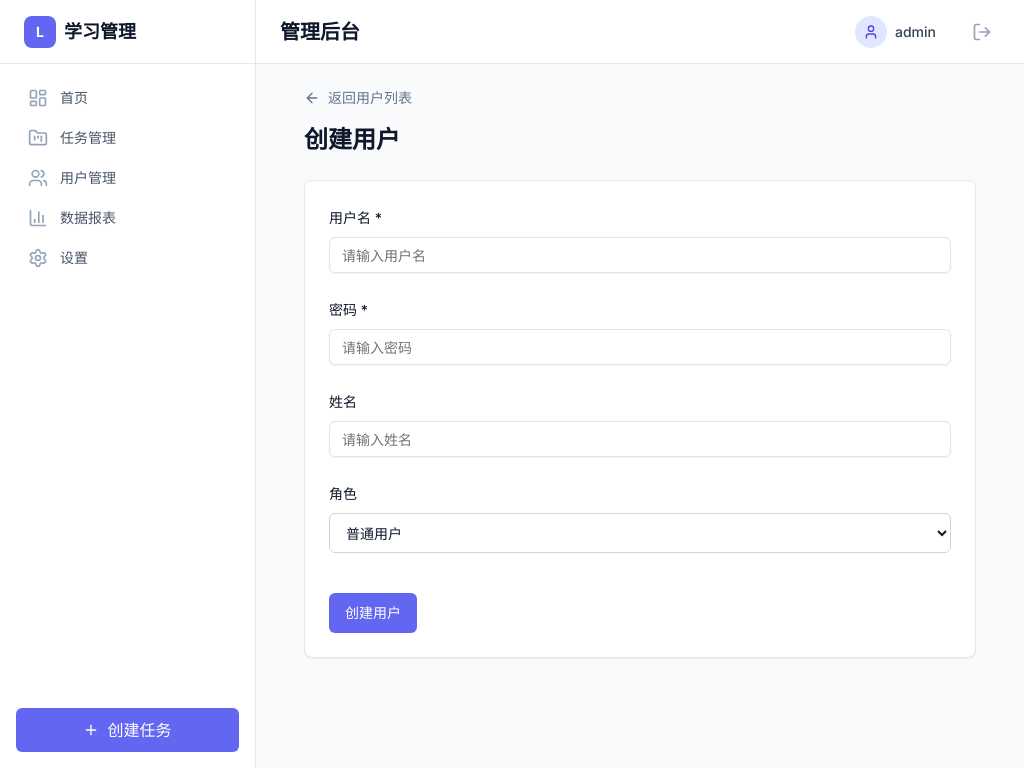
Test case: CreateUserPage › shows error message on API failure
Type "existinguser" into the field with placeholder "请输入用户名".
click(640, 255); type("existinguser")  # box top-left (329, 237), bottom-right (951, 273)
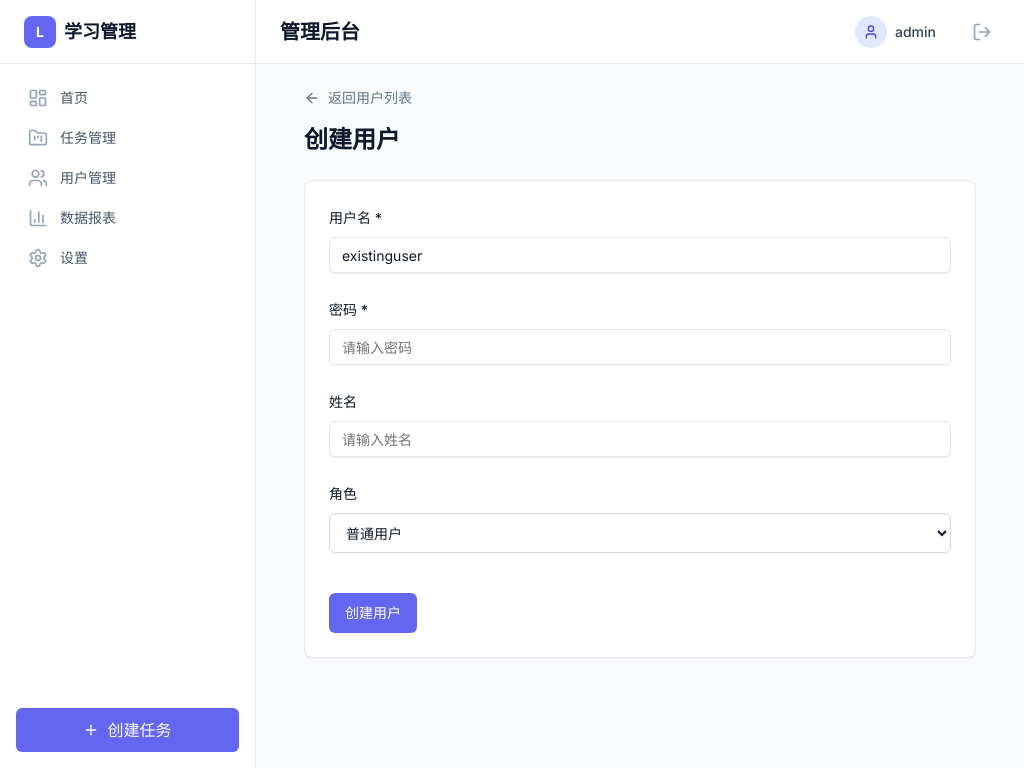
Type "password123" into the password field with placeholder "请输入密码".
click(640, 347); type("password123")  # box top-left (329, 329), bottom-right (951, 365)
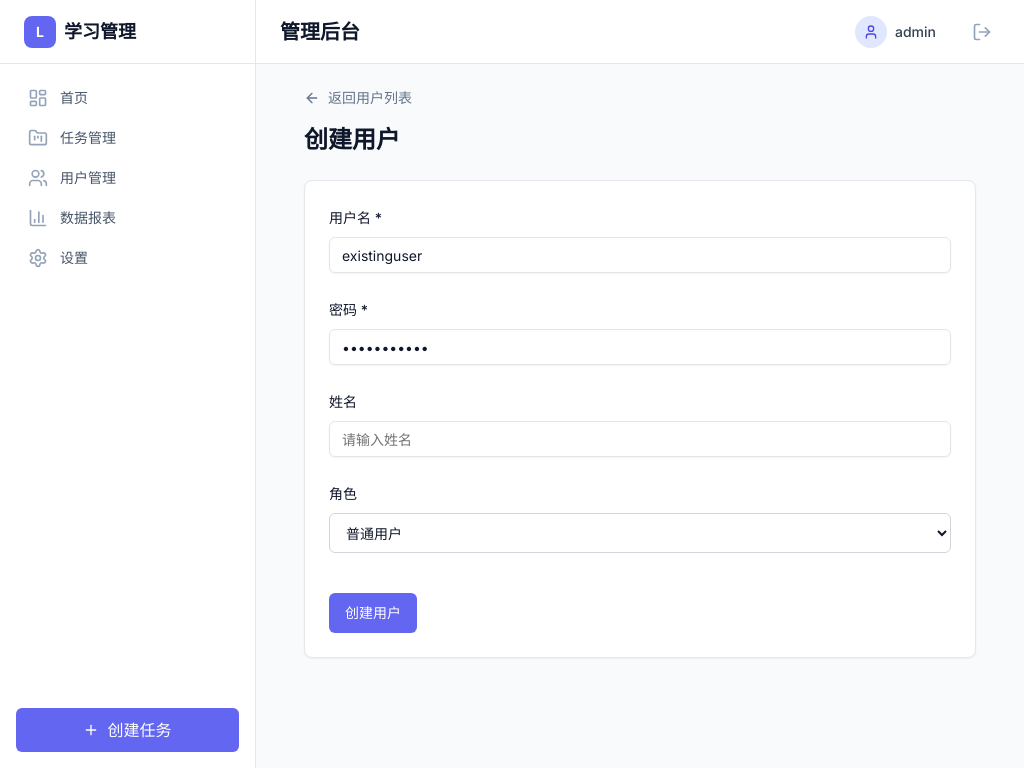
Click the button "创建用户".
click(373, 613)  # box top-left (329, 593), bottom-right (417, 633)
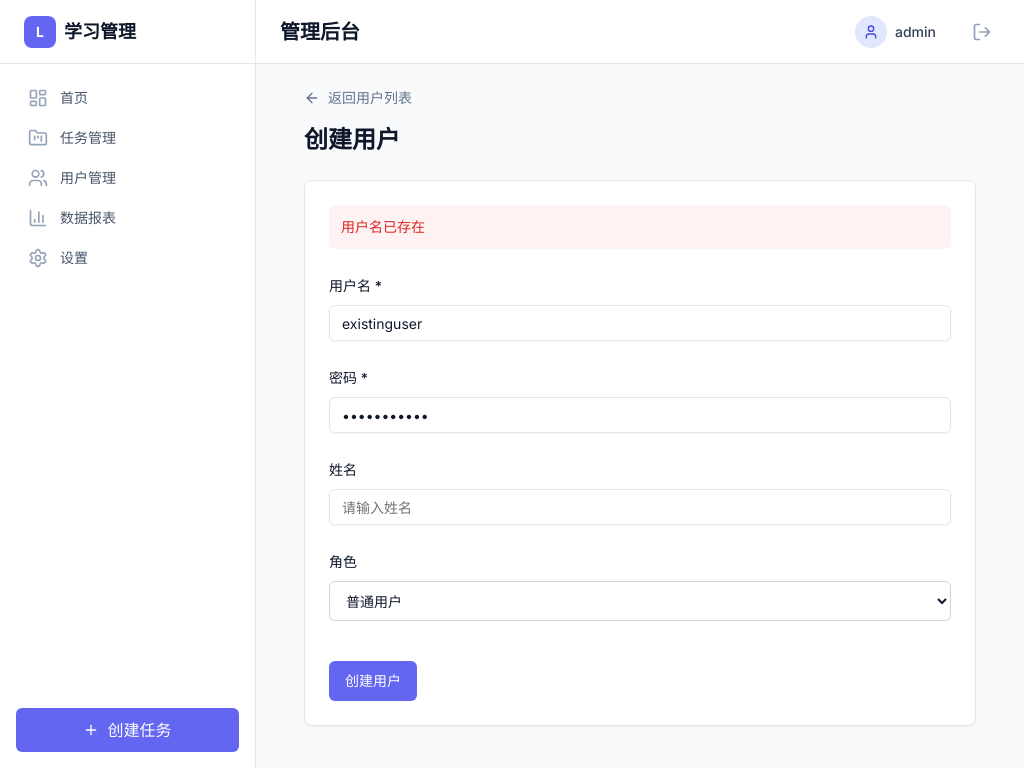
Expected: the text "用户名已存在" is shown, top-left (329, 205), bottom-right (951, 249)
